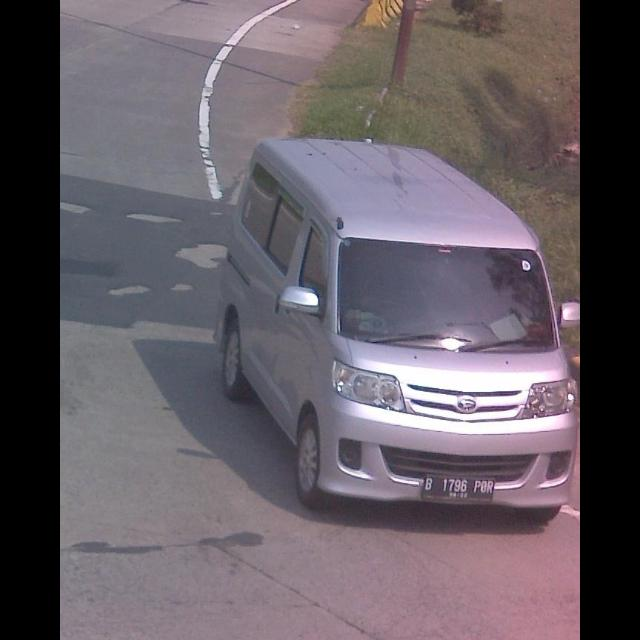plate: (424, 471, 496, 503)
